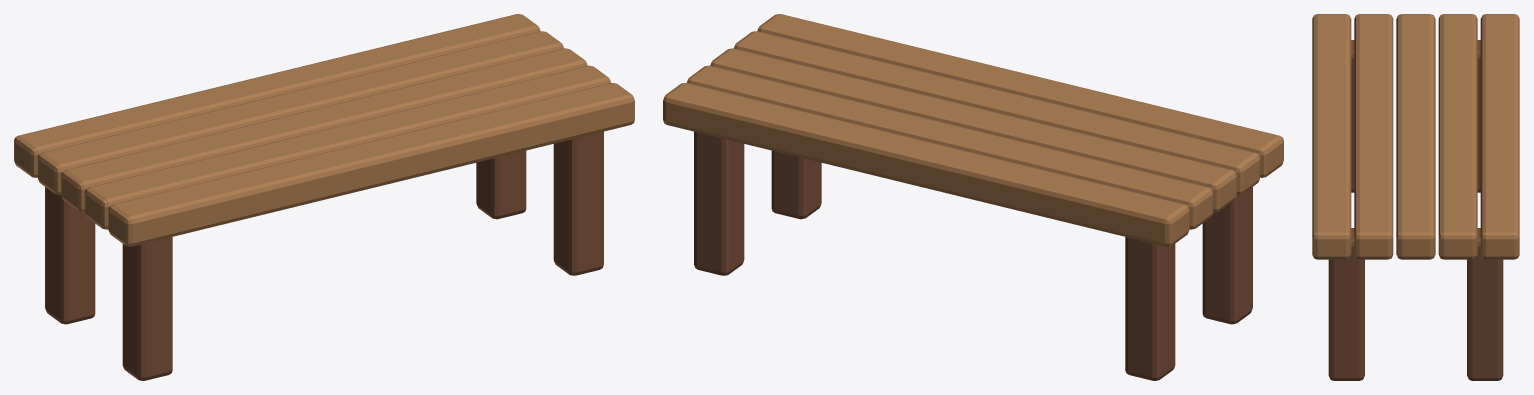
File: prop_bench.glb
The picture shows the model from 3 angles, left to right: view 1: azimuth 30°, elevation 25°; view 2: azimuth 150°, elevation 25°; view 3: azimuth 270°, elevation 25°; orthographic projection. The views are drawn at different scales.
Parts seen in each view (by area): view 1: prop_bench__attachments; view 2: prop_bench__attachments; view 3: prop_bench__attachments.
Part boxes in pixels (<box>): prop_bench__attachments: <box>14,14,634,380</box>; prop_bench__attachments: <box>663,14,1283,380</box>; prop_bench__attachments: <box>1312,14,1519,380</box>.
Bounding box in the file's own units: 1.75 × 0.58 × 0.69.
